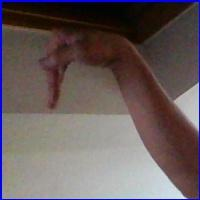A: (37, 25, 144, 118)
